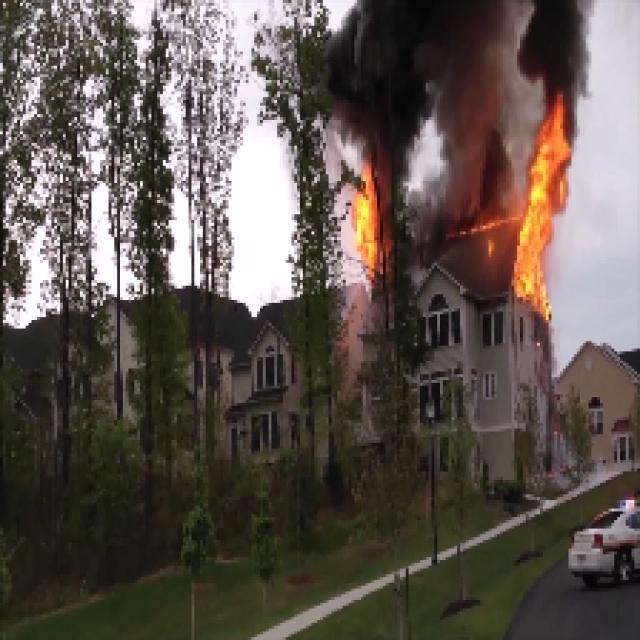fire: (517, 120, 561, 298), (349, 184, 380, 268)
smoke: (373, 4, 507, 217), (530, 8, 580, 100)
